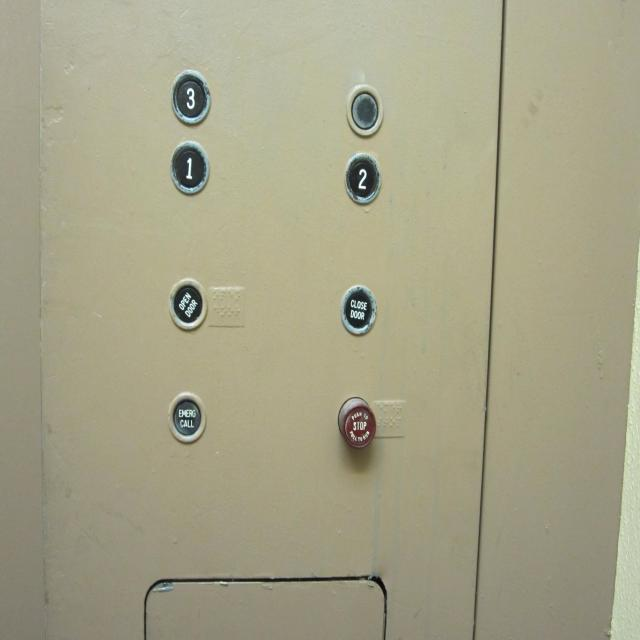1: (171, 142, 211, 196)
2: (344, 152, 382, 205)
3: (171, 70, 211, 125)
empty: (346, 82, 384, 138)
text_CALL CANCEL: (168, 391, 206, 442)
text_CLOSE: (340, 285, 376, 334)
text_OPEN: (168, 276, 208, 332)
text_stop: (338, 398, 377, 448)
